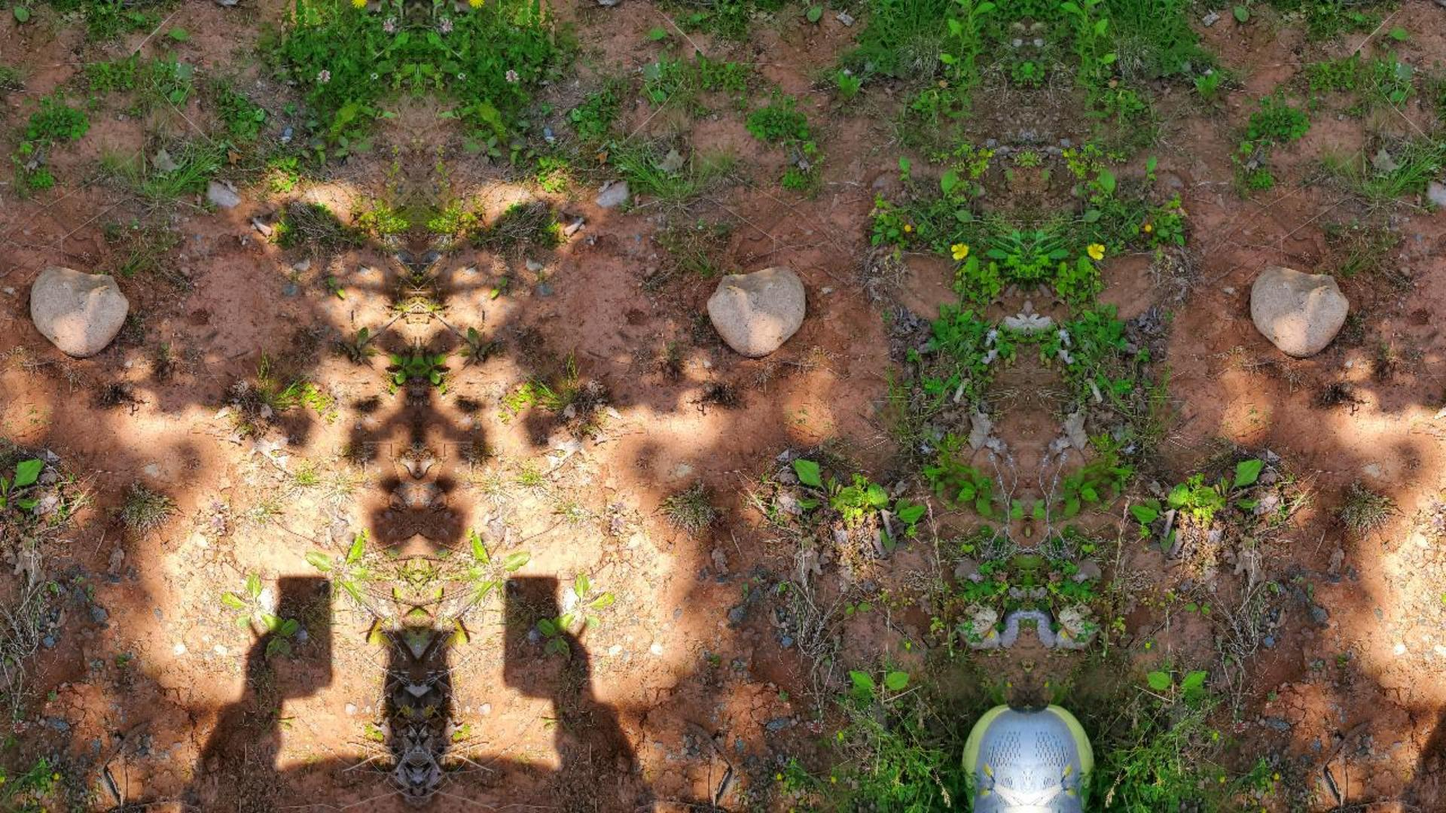rock: (1251, 266, 1348, 356), (31, 266, 127, 356), (707, 268, 804, 357)
